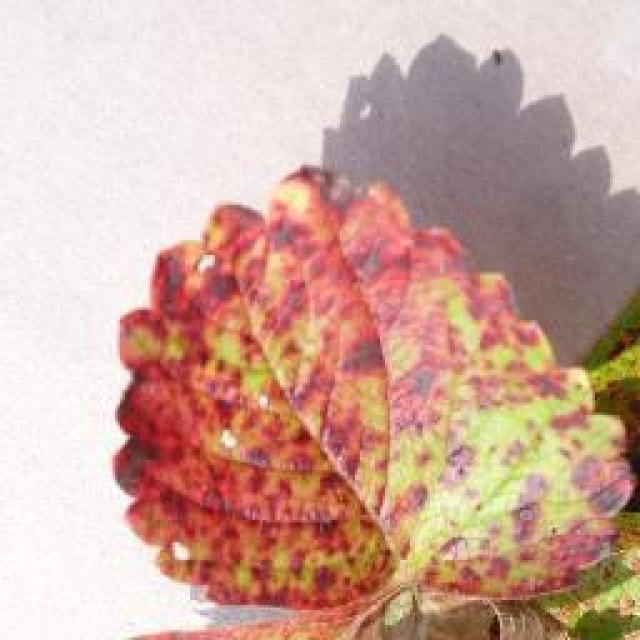Strawberry leaf scorch: (133, 227, 587, 565)
